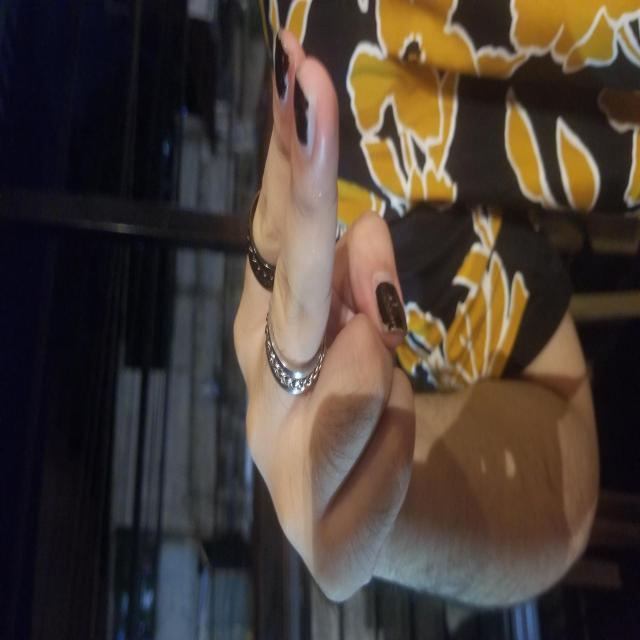N: (34, 233, 606, 418)
